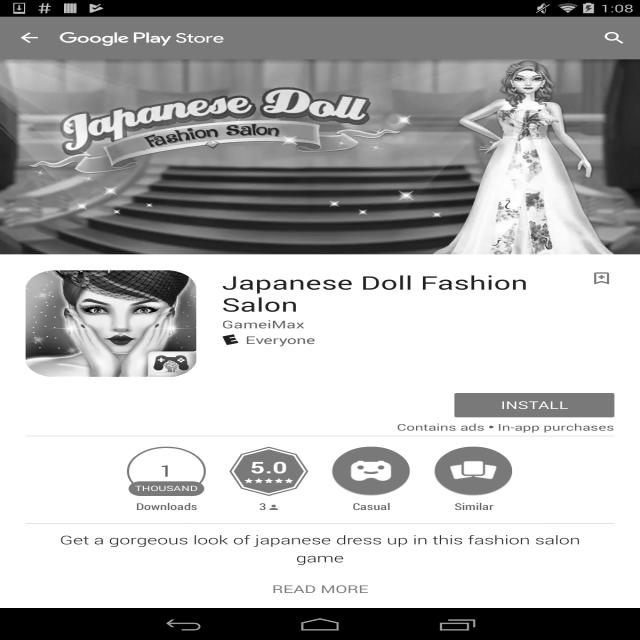Button: (222, 447, 316, 512), (324, 447, 418, 512), (426, 447, 520, 512), (454, 393, 614, 417)
ImageButton: (0, 17, 60, 59)
ImageView: (0, 59, 640, 254), (26, 270, 196, 377), (332, 447, 411, 496), (434, 447, 513, 496), (60, 30, 224, 46), (589, 270, 614, 286), (222, 334, 239, 345), (269, 505, 278, 510)
TextView: (0, 531, 640, 578), (222, 270, 589, 317), (0, 578, 640, 596), (589, 22, 640, 54), (324, 496, 418, 513), (426, 496, 520, 513), (120, 496, 213, 513), (498, 421, 614, 433), (222, 317, 304, 331), (397, 421, 485, 433), (245, 333, 316, 347), (250, 456, 288, 478), (133, 484, 200, 493), (159, 462, 173, 481), (259, 496, 266, 513)
